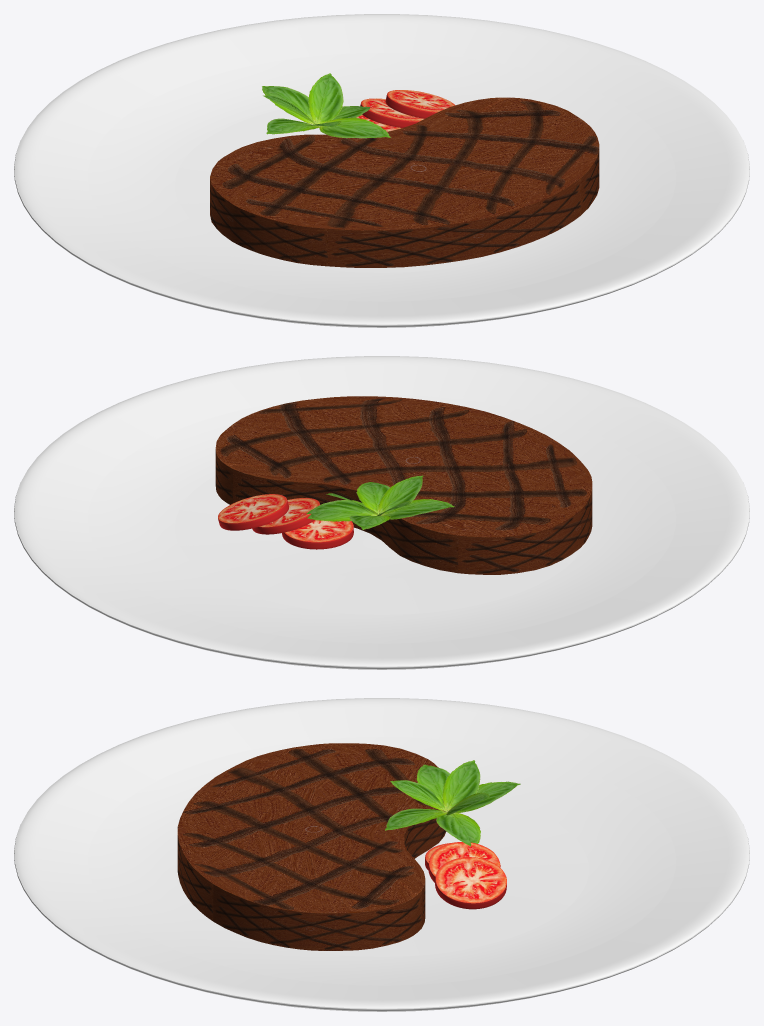
Rendered from steak.FBX.
The picture shows the model from 3 angles, top to bottom: view 1: azimuth 30°, elevation 25°; view 2: azimuth 150°, elevation 25°; view 3: azimuth 270°, elevation 25°; orthographic projection.
Visible parts, largest first — view 1: Line001, Box001, Plane015, Cylinder005, Plane019, Cylinder003, Plane017, Plane016; view 2: Line001, Box001, Cylinder005, Cylinder004, Cylinder003, Plane018, Plane012, Plane016, Plane019; view 3: Line001, Box001, Cylinder005, Plane013, Cylinder003, Plane018, Plane019, Plane012, Plane016, Plane017.
Boxes of the visible parts, box(x1,y1,x2,y2) form: Line001: box(14, 14, 749, 327); Box001: box(210, 97, 599, 267); Plane015: box(308, 73, 343, 124); Cylinder005: box(385, 90, 454, 118); Plane019: box(318, 117, 390, 138); Cylinder003: box(360, 98, 423, 127); Plane017: box(262, 86, 316, 124); Plane016: box(266, 118, 319, 134); Line001: box(14, 356, 749, 669); Box001: box(215, 396, 592, 574); Cylinder005: box(218, 494, 288, 530); Cylinder004: box(282, 520, 353, 549); Cylinder003: box(252, 498, 320, 534); Plane018: box(306, 500, 377, 521); Plane012: box(378, 475, 423, 515); Plane016: box(381, 499, 454, 519); Plane019: box(356, 482, 389, 514); Line001: box(14, 698, 749, 1011); Box001: box(177, 743, 446, 950); Cylinder005: box(435, 857, 506, 909); Plane013: box(442, 760, 480, 811); Cylinder003: box(428, 842, 500, 882); Plane018: box(436, 812, 480, 846); Plane019: box(385, 808, 447, 830); Plane012: box(390, 780, 447, 811); Plane016: box(416, 764, 450, 809); Plane017: box(455, 781, 520, 812).
Size of the model in its own units: 266 by 49.64 by 266.
Materials: 4 (4 with a texture image).
